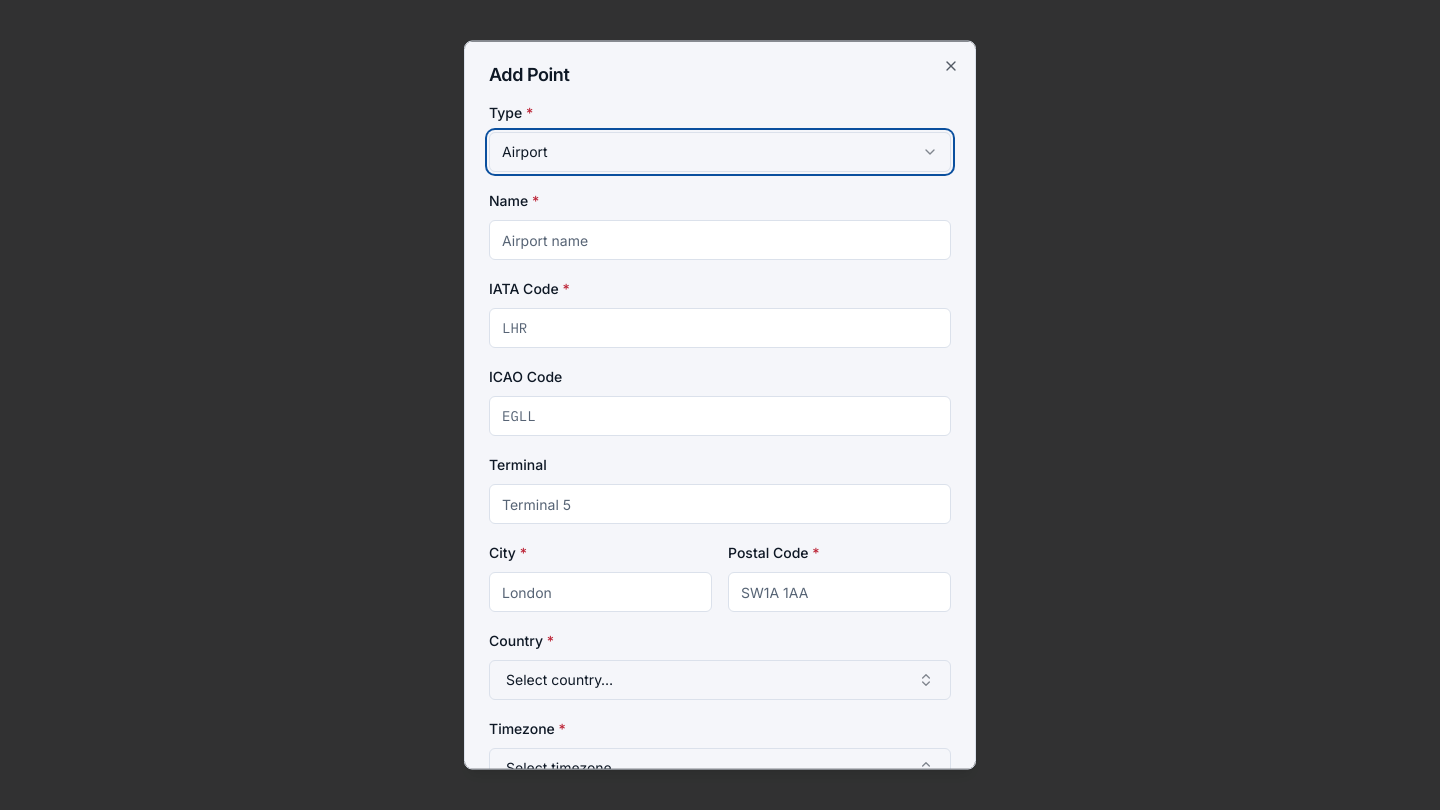
Test case: PointEditor › an invalid IATA code ('XX') shows a schema error and does NOT POST
This screenshot has width=1440, height=810.
Note: Fill in the IATA field with an invalid value (2 chars, not 3)
In the field labelled "IATA Code *": (720, 328) [489, 308, 951, 348], type "XX"
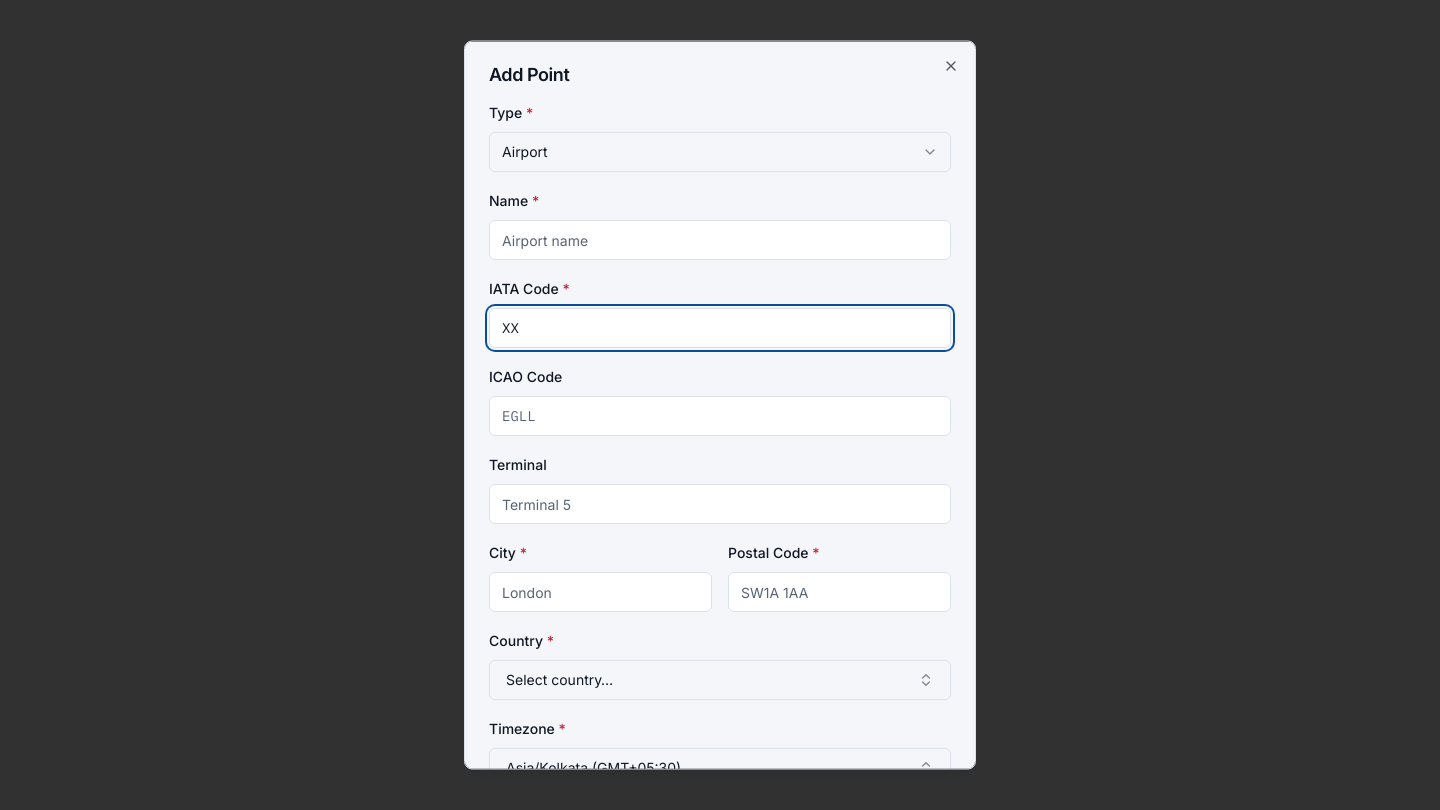
Note: Fill required field (airport name via placeholder)
In the field with placeholder "Airport name": (720, 240) [489, 220, 951, 260], type "Test Airport"
(page scrolled)
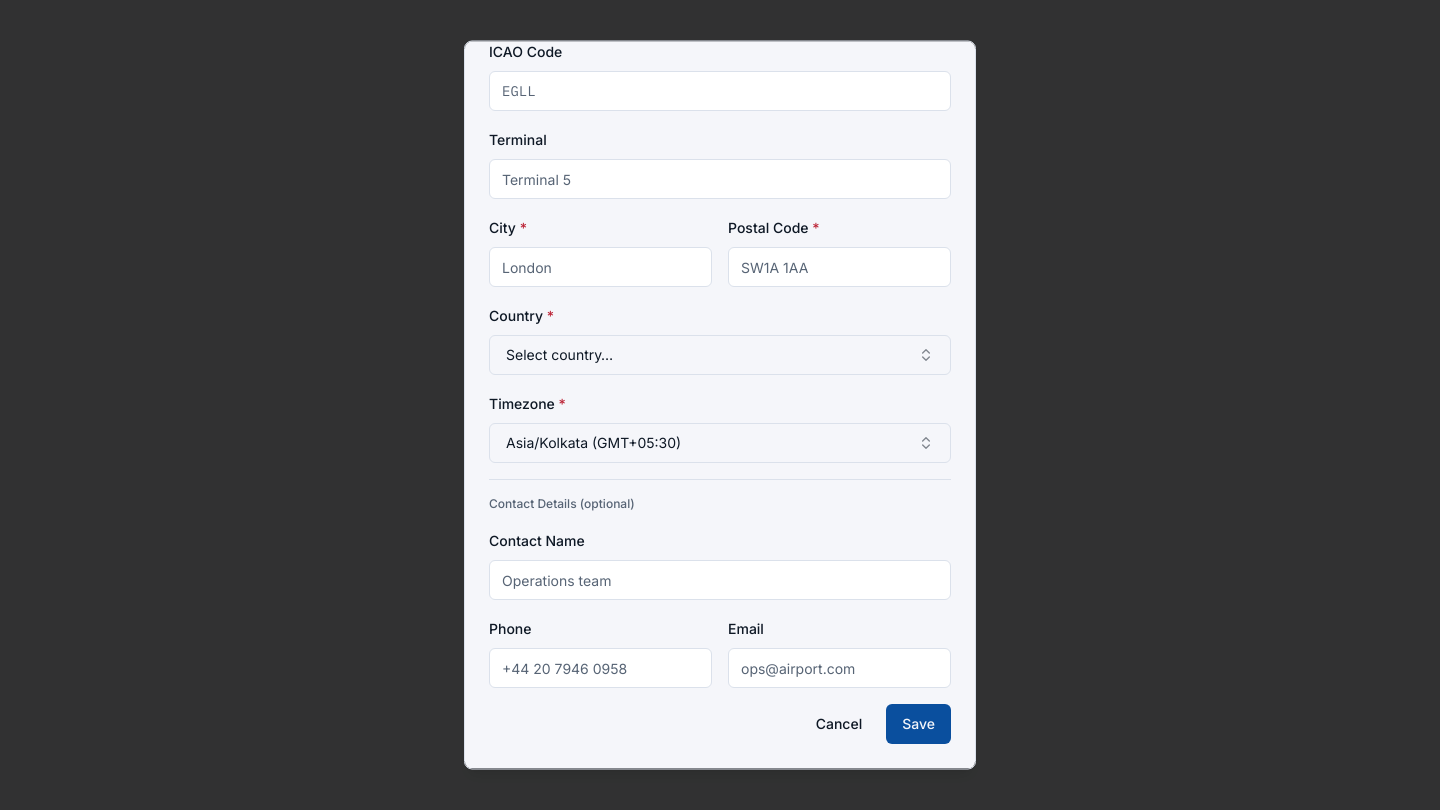
Click the button "Save": (919, 724) [886, 704, 951, 744]
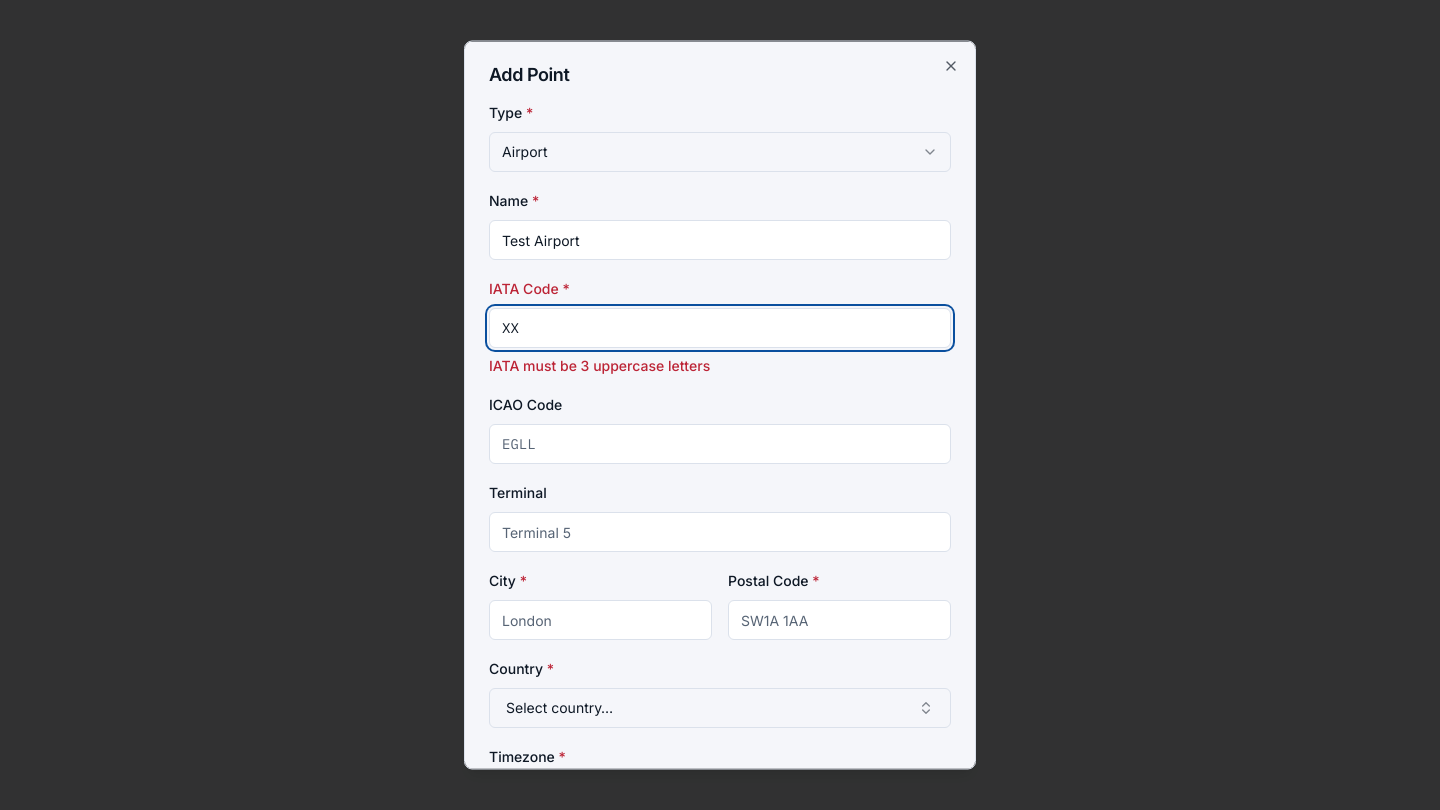
expect the text "IATA must be 3 uppercase letters" is shown: met, box [489, 356, 710, 374]
